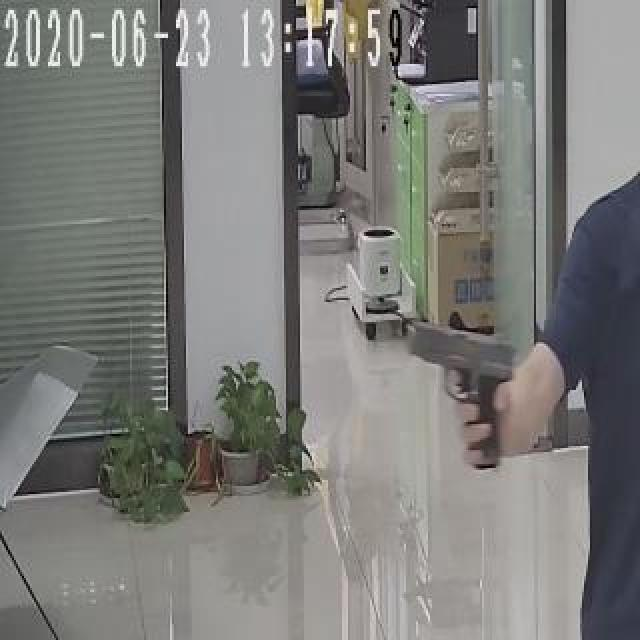Guns: (392, 309, 550, 486)
